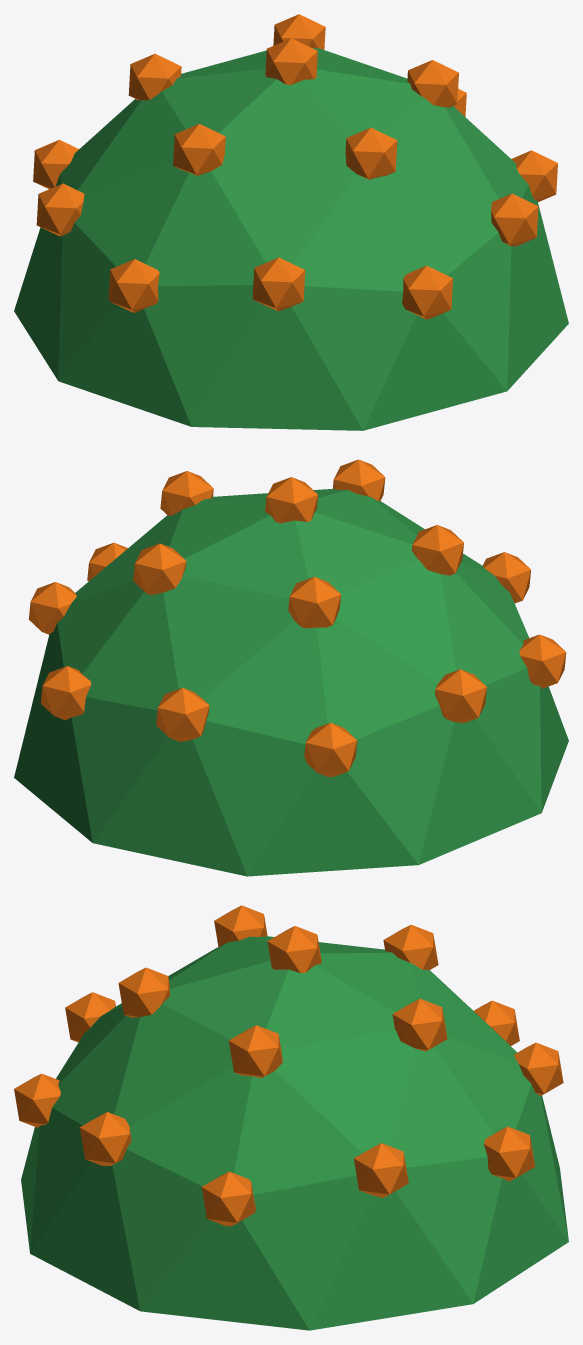
Rendered from BushFruitsOrange.fbx.
3 views of the same model, one above another, from view 1: azimuth 30°, elevation 25°; view 2: azimuth 150°, elevation 25°; view 3: azimuth 270°, elevation 25° (orthographic). The views are drawn at different scales.
Visible parts, largest first — view 1: BushFruitsOrange; view 2: BushFruitsOrange; view 3: BushFruitsOrange.
Boxes of the visible parts, box(x1,y1,x2,y2) form: BushFruitsOrange: box(14, 14, 568, 430); BushFruitsOrange: box(14, 459, 568, 876); BushFruitsOrange: box(14, 905, 568, 1330).
Size of the model in its own units: 605 by 336 by 592.
